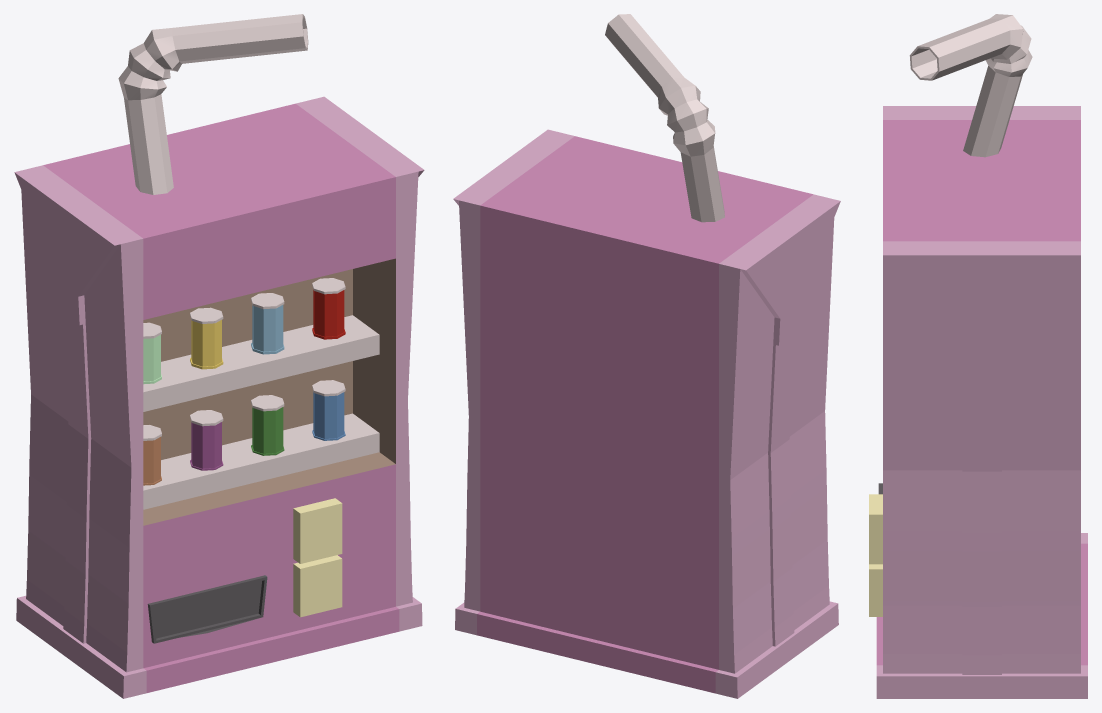
File: milkvending_machine.fbx
3 views of the same model, side by side, from view 1: azimuth 30°, elevation 25°; view 2: azimuth 150°, elevation 25°; view 3: azimuth 270°, elevation 25° (orthographic). The views are drawn at different scales.
Parts seen in each view (by area): view 1: vending_machine; view 2: vending_machine; view 3: vending_machine.
Boxes of the visible parts, left/top/right/bottom form: vending_machine: left=14, top=14, right=424, bottom=698; vending_machine: left=453, top=14, right=840, bottom=698; vending_machine: left=869, top=14, right=1087, bottom=698.
Size of the model in its own units: 13.98 by 8.66 by 26.5.
